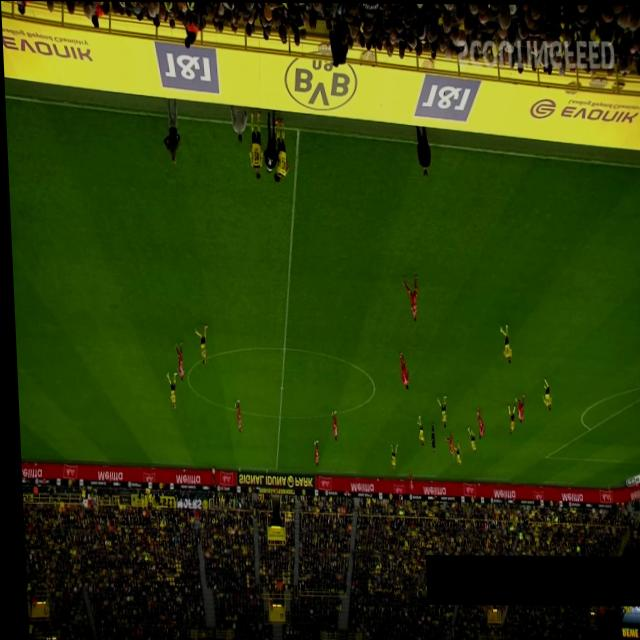player: (245, 110, 263, 178), (269, 117, 287, 183), (398, 274, 416, 321), (190, 324, 206, 364), (495, 322, 509, 362), (161, 370, 174, 408), (170, 340, 181, 380), (394, 350, 405, 388), (537, 376, 549, 410), (502, 402, 513, 434), (433, 394, 444, 426), (510, 392, 521, 422), (439, 429, 450, 457), (471, 407, 480, 439), (462, 425, 472, 453), (230, 398, 238, 432), (385, 442, 394, 470), (412, 413, 419, 445), (326, 409, 333, 440), (449, 441, 456, 467), (402, 467, 409, 493), (309, 440, 315, 466)
referee: (425, 421, 431, 452), (204, 463, 211, 487)
